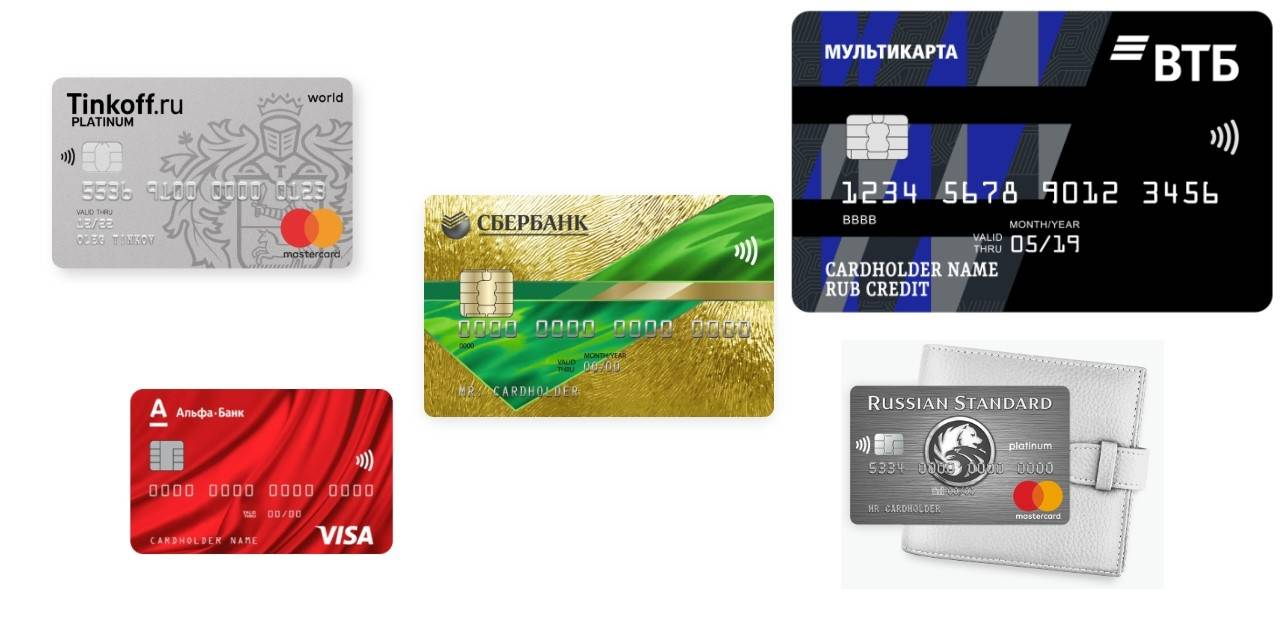card: (792, 11, 1273, 311), (422, 191, 775, 416), (51, 76, 353, 270), (129, 387, 395, 556), (850, 385, 1072, 524)
